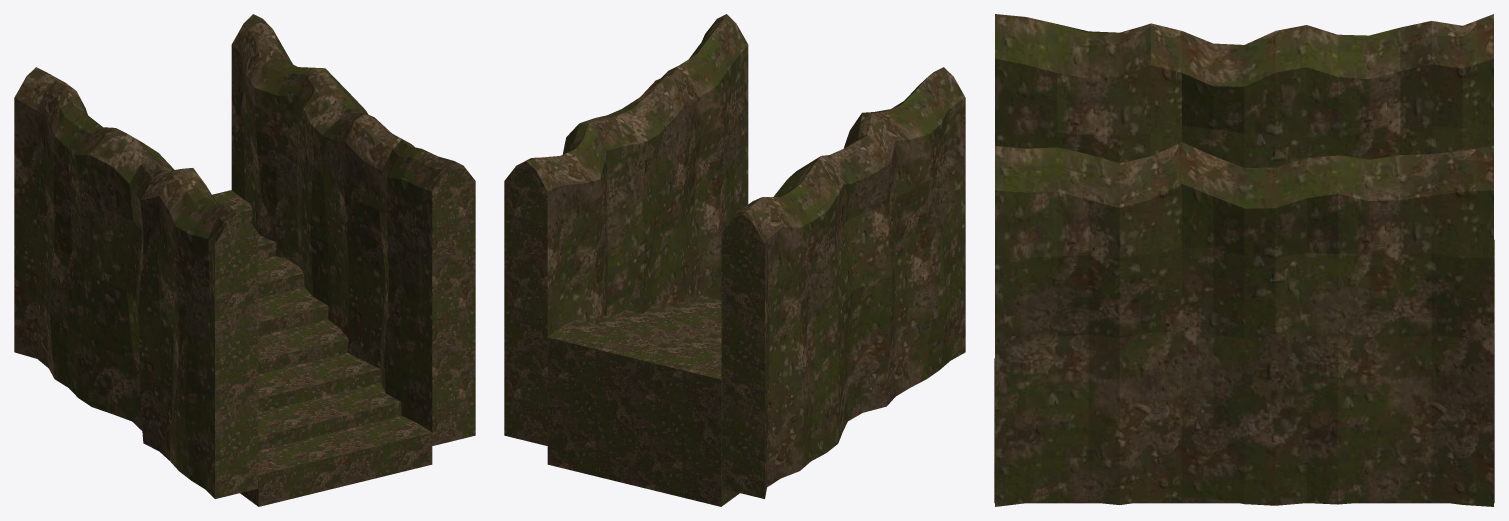
Rendered from cave_stairs_01_limestone.glb.
3 renders of one model, left to right at view 1: azimuth 30°, elevation 25°; view 2: azimuth 150°, elevation 25°; view 3: azimuth 270°, elevation 25°, orthographic. The views are drawn at different scales.
Visible parts, largest first — view 1: cave_stairs_01_limestone; view 2: cave_stairs_01_limestone; view 3: cave_stairs_01_limestone.
Part boxes in pixels (x1,y1,x2,y2): cave_stairs_01_limestone: (14, 14, 475, 506); cave_stairs_01_limestone: (504, 14, 965, 506); cave_stairs_01_limestone: (994, 14, 1494, 506).
Size of the model in its own units: 3.09 by 3.28 by 4.01.
2 materials, 2 textured.
